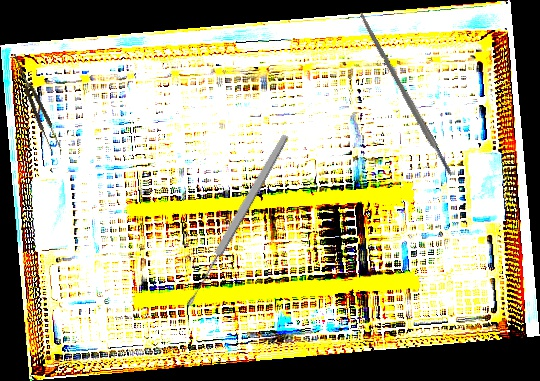Scalpel Handle: (356, 11, 455, 179)
Surgical Spoon: (182, 132, 292, 309)
Tissue Forceps: (9, 51, 62, 153)
